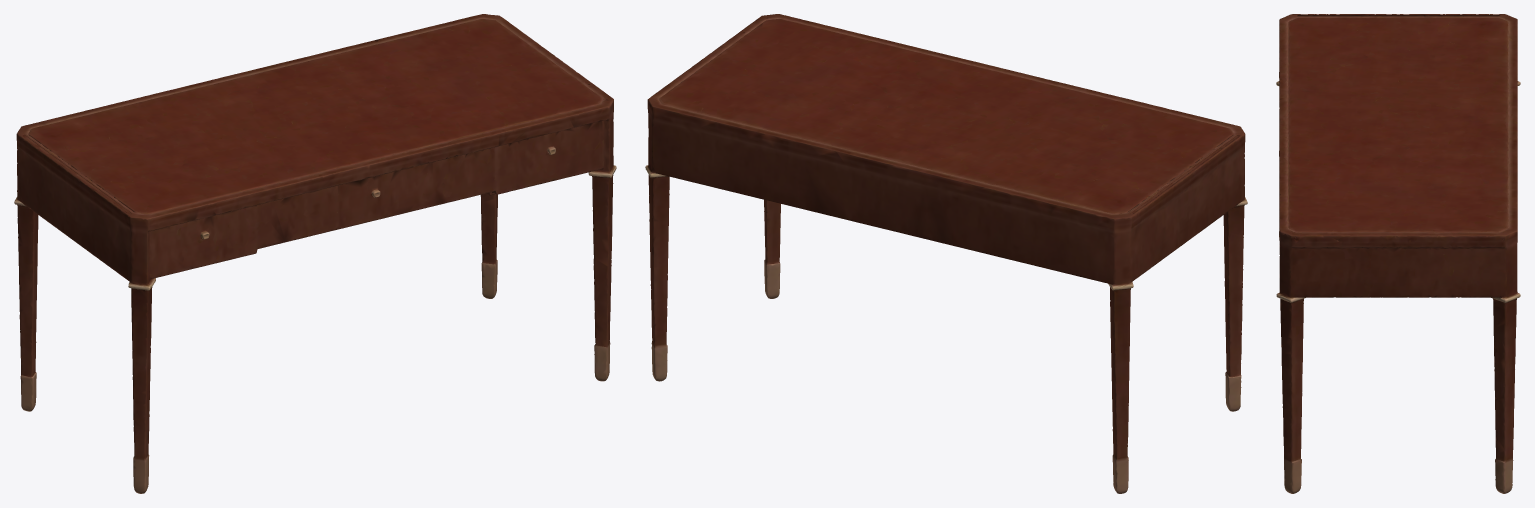
The model's file is Transitional Wood Writing Desk with Brass Accents [2BjyWm].glb.
The picture shows the model from 3 angles, left to right: view 1: azimuth 30°, elevation 25°; view 2: azimuth 150°, elevation 25°; view 3: azimuth 270°, elevation 25°; orthographic projection. The views are drawn at different scales.
Visible parts, largest first — view 1: geometry_0; view 2: geometry_0; view 3: geometry_0.
Boxes of the visible parts, x1,y1,x2,y2 form: geometry_0: (14, 14, 616, 493); geometry_0: (645, 14, 1247, 493); geometry_0: (1276, 14, 1520, 493).
Size of the model in its own units: 1 by 0.549 by 0.4615.
1 material, 1 textured.
